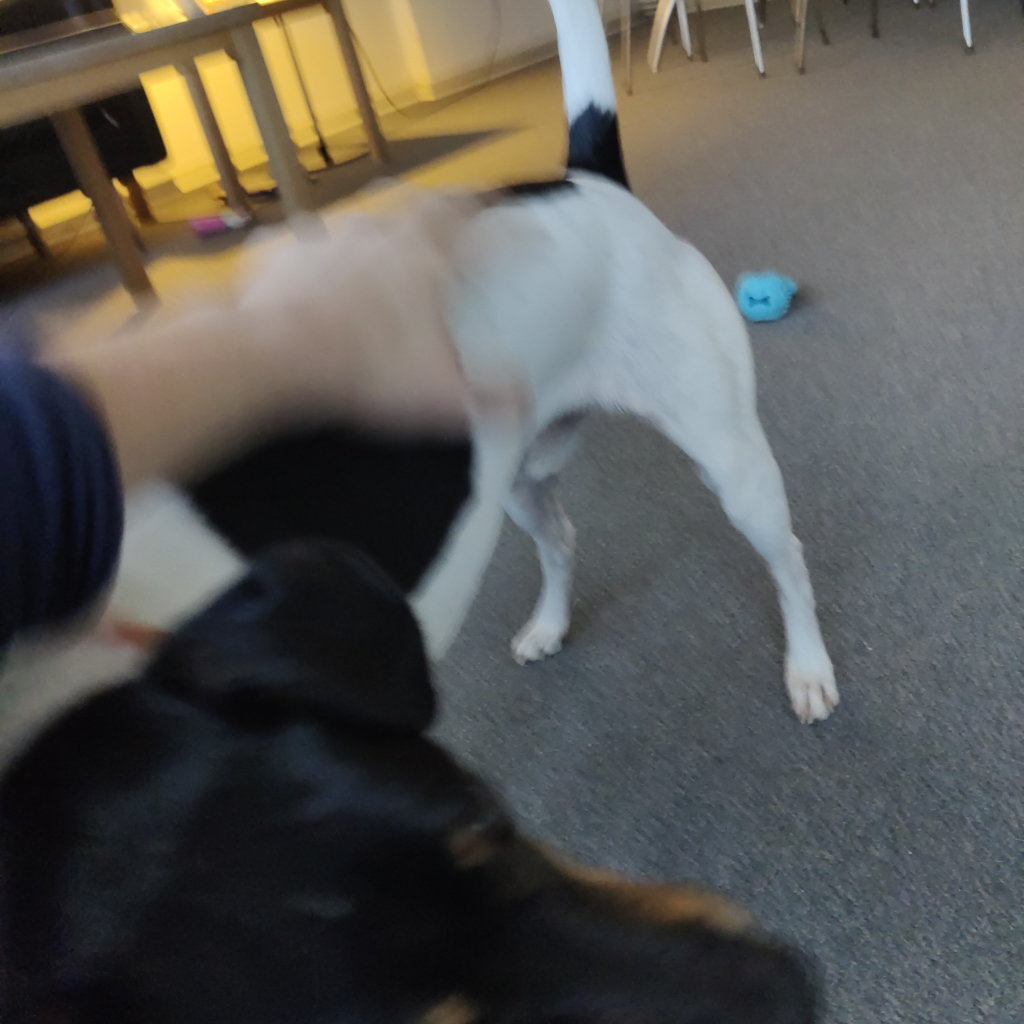Dog: (0, 0, 879, 1024)
Humanoid: (0, 140, 576, 728)
